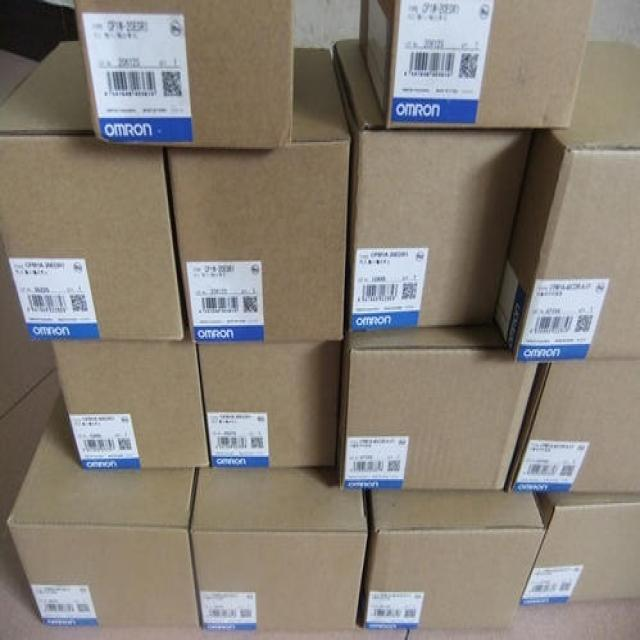box: (332, 38, 532, 334), (0, 41, 185, 341), (167, 46, 351, 344), (494, 41, 640, 363), (8, 390, 201, 628), (335, 323, 540, 491), (72, 0, 292, 152), (189, 465, 369, 631), (364, 493, 546, 626), (53, 342, 209, 469), (504, 359, 640, 493), (199, 342, 341, 467), (519, 495, 640, 611)
